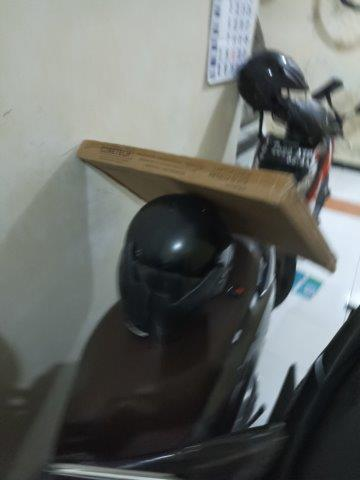kardus: (77, 139, 337, 272)
